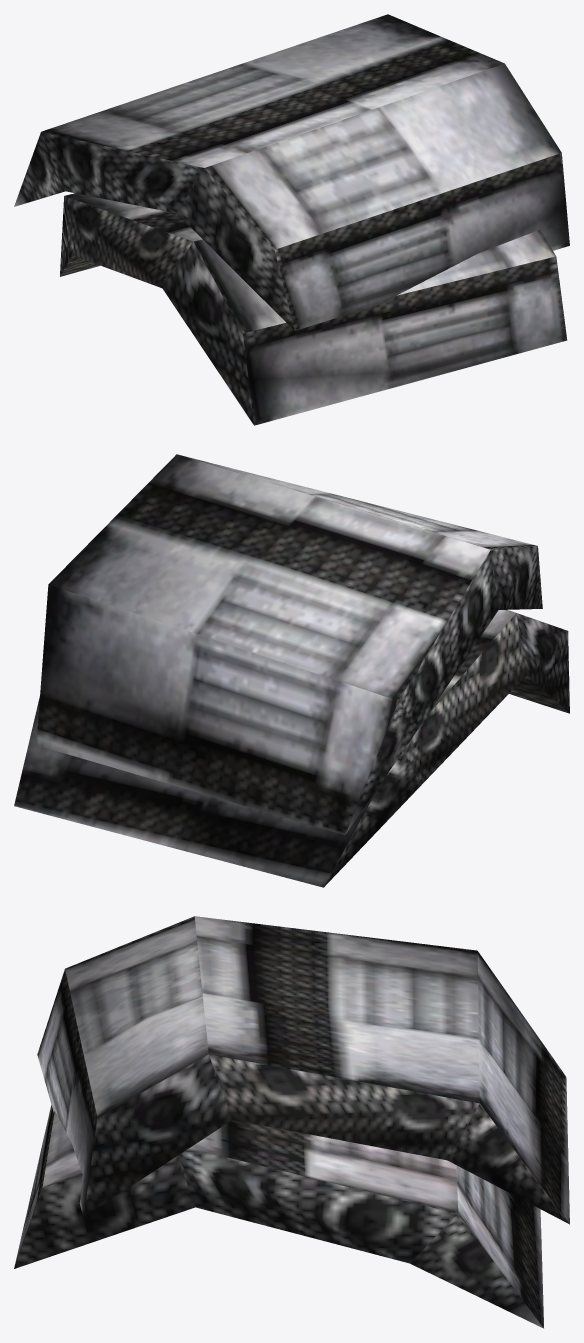
The model's file is ShoulderPads5__EC.glb.
The picture shows the model from 3 angles, top to bottom: view 1: azimuth 30°, elevation 25°; view 2: azimuth 150°, elevation 25°; view 3: azimuth 270°, elevation 25°; orthographic projection. The views are drawn at different scales.
Parts seen in each view (by area): view 1: ShoulderPads5; view 2: ShoulderPads5; view 3: ShoulderPads5.
Boxes of the visible parts, <box> form: ShoulderPads5: <box>14,14,569,425</box>; ShoulderPads5: <box>14,454,569,887</box>; ShoulderPads5: <box>14,916,569,1328</box>.
Size of the model in its own units: 8.51 by 5.51 by 10.
1 material, 1 textured.
